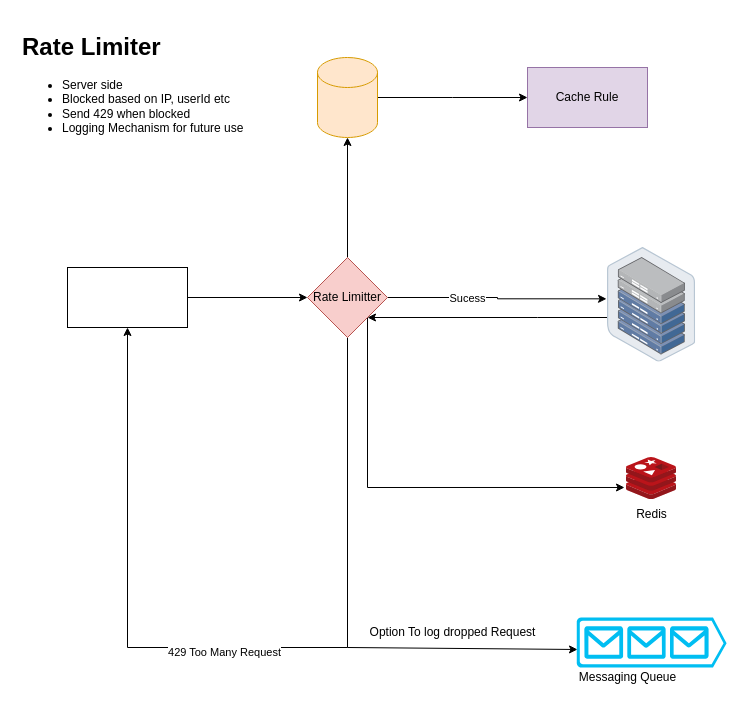
Some shapes in this 744 by 709 pixel diagram are drawn without their labels. The box of each missing label's shape, as (x1, y1, x2, y2) in pixels:
Cache: (316, 56, 378, 138)
Client: (66, 266, 188, 328)
